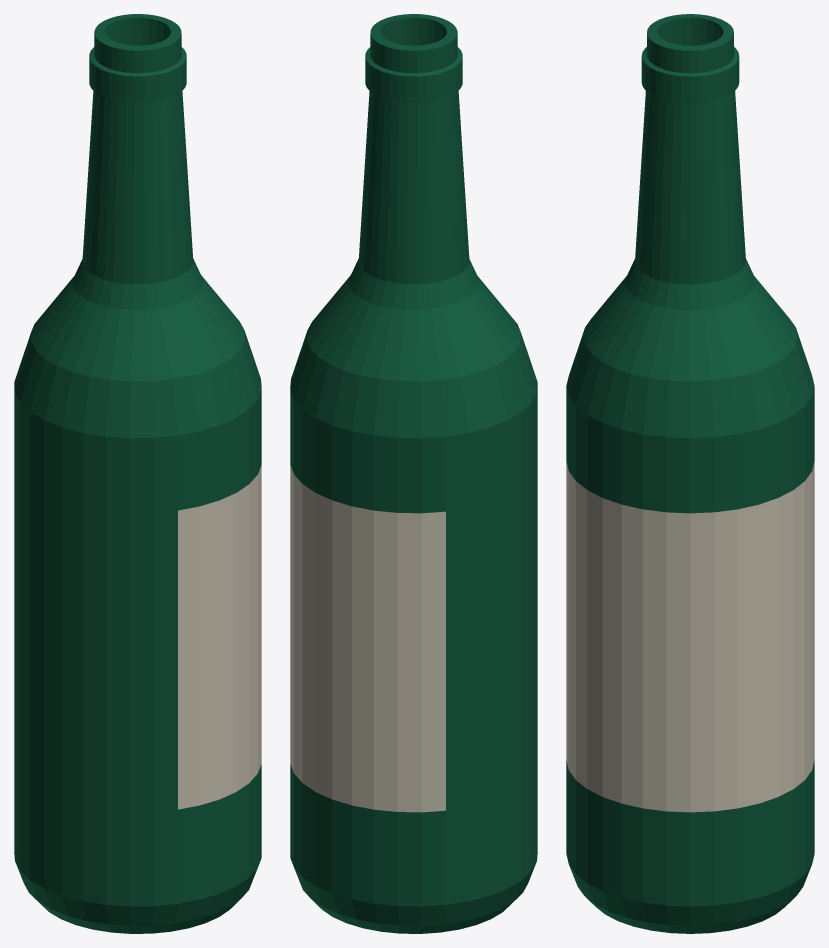
Rendered from Glass Bottle by FloopBadModels123 - bF8mftLZ3A.glb.
3 views of the same model, side by side, from view 1: azimuth 30°, elevation 25°; view 2: azimuth 150°, elevation 25°; view 3: azimuth 270°, elevation 25° (orthographic).
Visible parts, largest first — view 1: Cylinder; view 2: Cylinder; view 3: Cylinder.
Boxes of the visible parts, x1,y1,x2,y2 form: Cylinder: [14, 14, 261, 933]; Cylinder: [290, 14, 537, 933]; Cylinder: [566, 14, 814, 933].
Size of the model in its own units: 0.2418 by 0.9237 by 0.2418.
